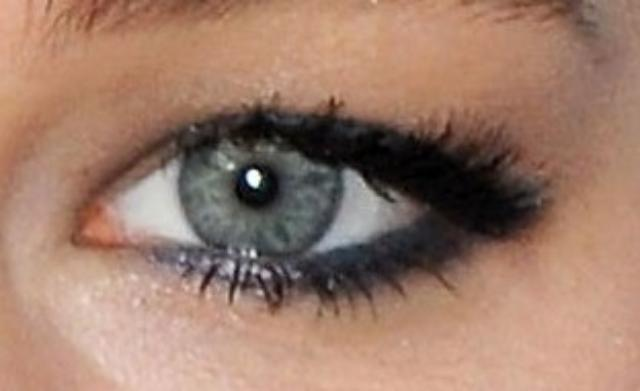eye: (177, 110, 347, 262)
